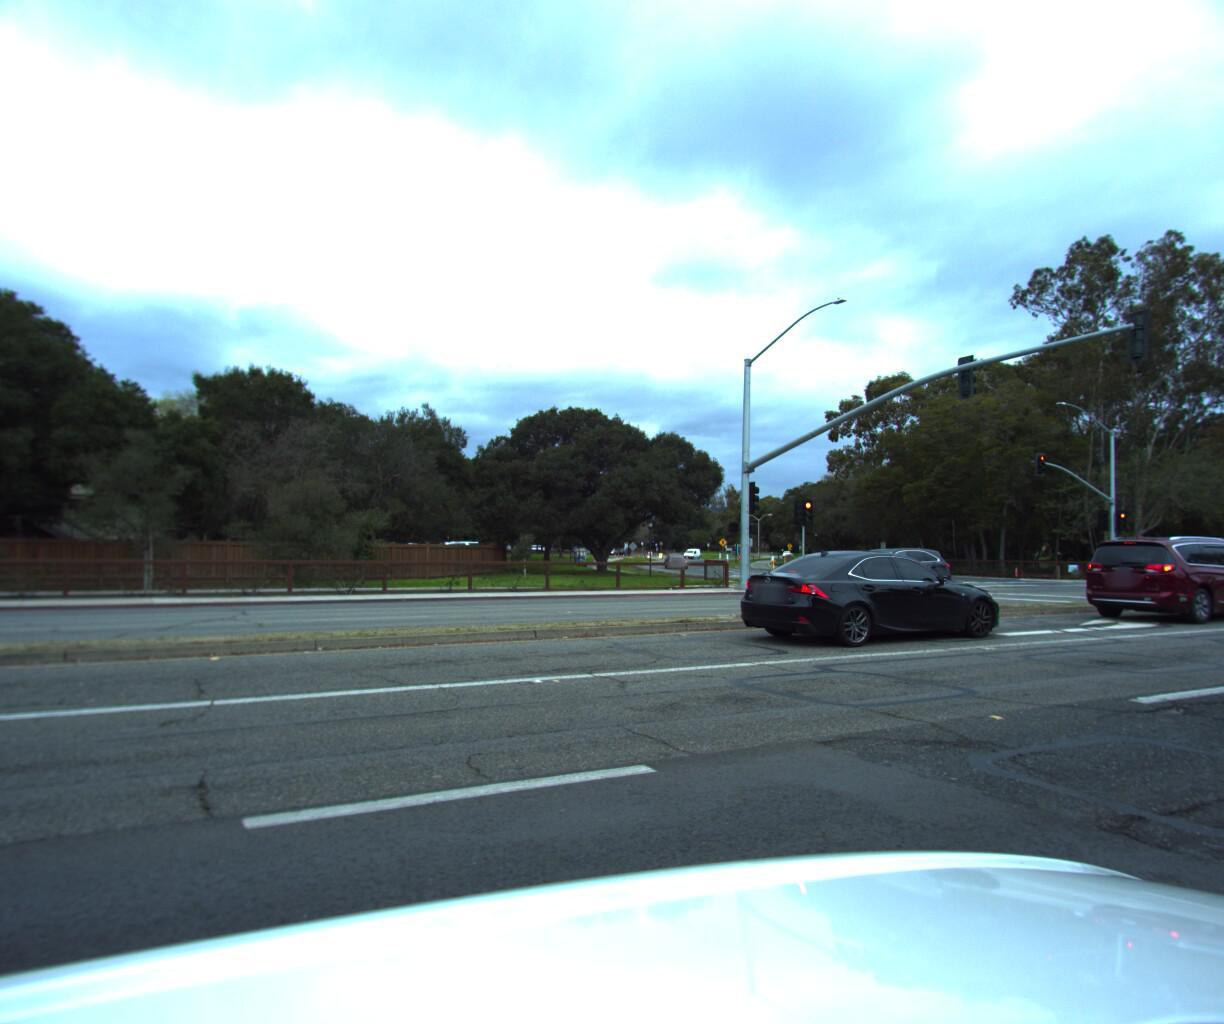car: (724, 545, 1014, 650), (1063, 526, 1224, 623), (814, 535, 955, 591), (659, 549, 685, 566)
